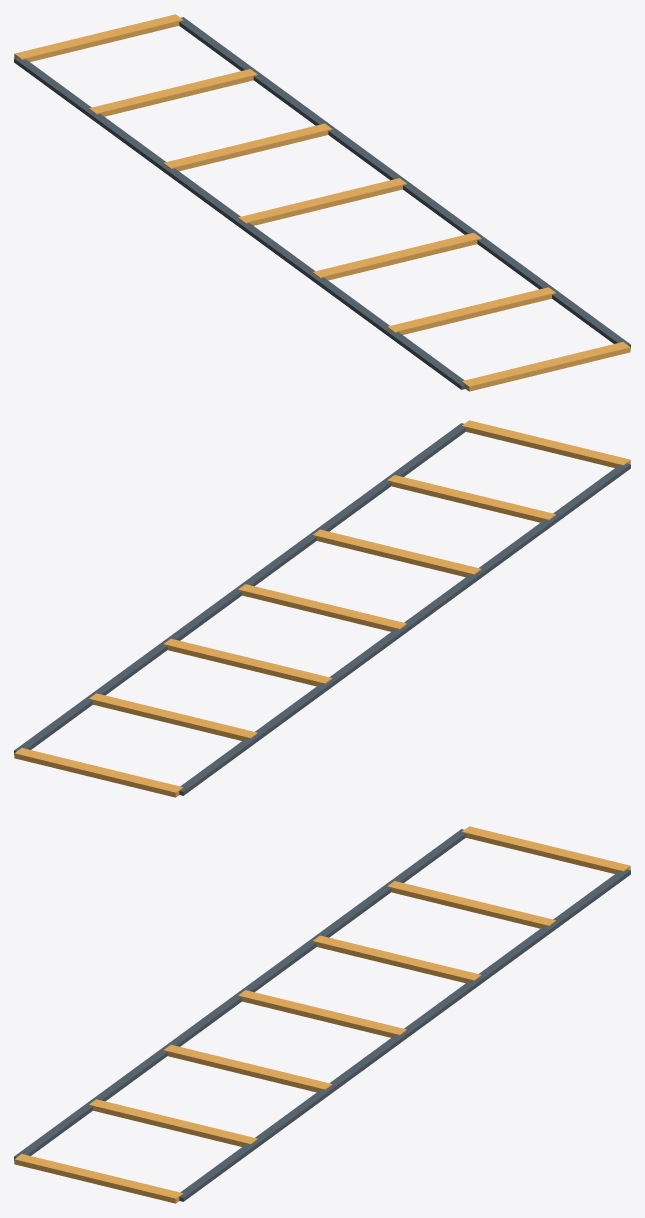
Rendered from football-soccer-club-grounds-agility-ladder-75e84ad2.glb.
3 views of the same model, one above another, from view 1: azimuth 30°, elevation 25°; view 2: azimuth 150°, elevation 25°; view 3: azimuth 330°, elevation 25° (orthographic).
Visible parts, largest first — view 1: agility-ladder; view 2: agility-ladder; view 3: agility-ladder.
Boxes of the visible parts, bbox=[...] form: agility-ladder: bbox=[14, 14, 630, 391]; agility-ladder: bbox=[14, 420, 630, 797]; agility-ladder: bbox=[14, 826, 630, 1203].
Bounding box in the file's own units: 0.525 × 0.015 × 2.44.
